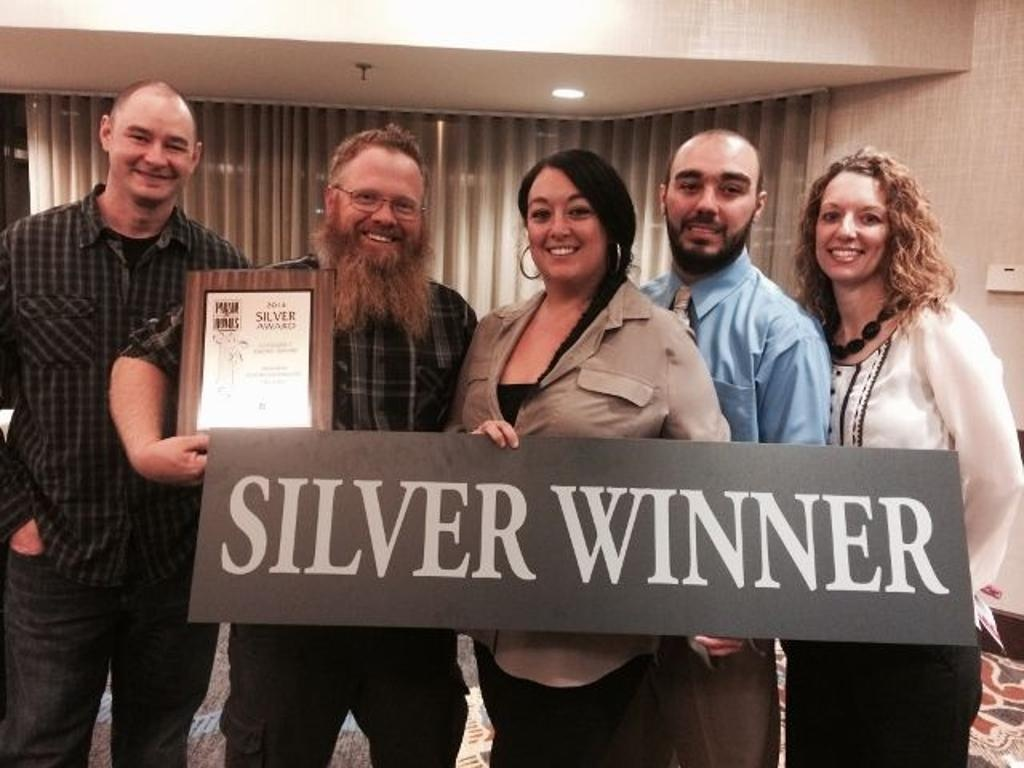human_face: (666, 132, 756, 264), (338, 150, 426, 272), (530, 166, 608, 280), (112, 94, 192, 200), (814, 172, 888, 282)
